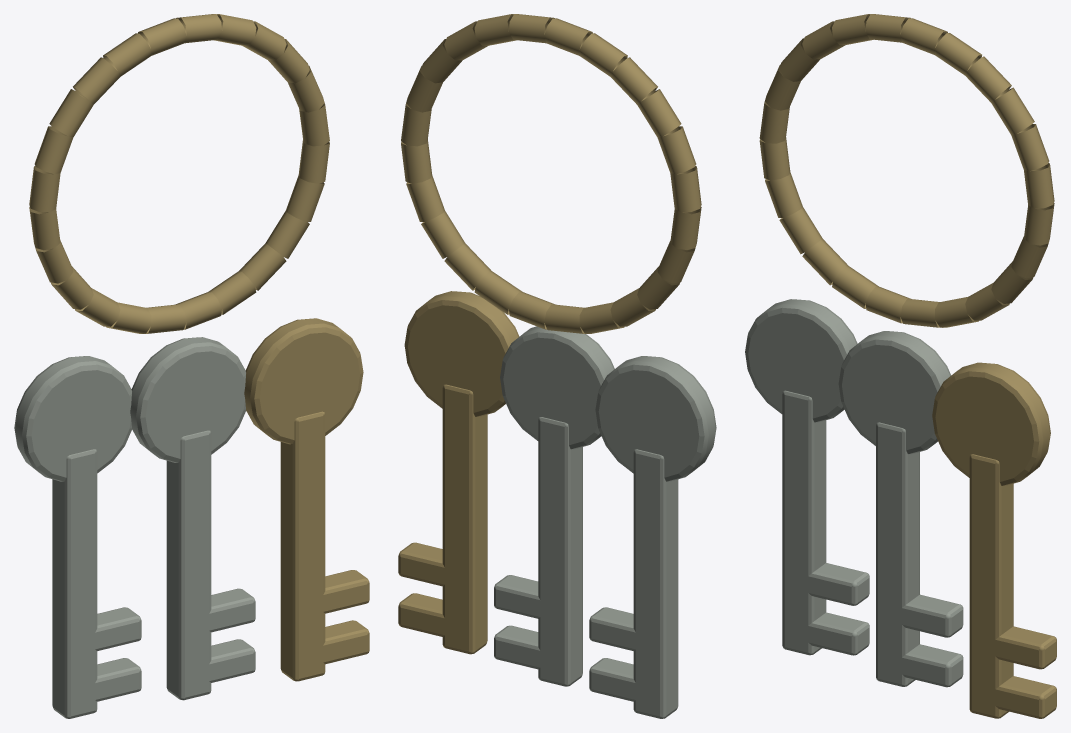
File: boiler_keys.glb
3 views of the same model, side by side, from view 1: azimuth 30°, elevation 25°; view 2: azimuth 150°, elevation 25°; view 3: azimuth 330°, elevation 25° (orthographic).
Parts seen in each view (by area): view 1: Rear_Steel, Rear_Brass; view 2: Rear_Steel, Rear_Brass; view 3: Rear_Brass, Rear_Steel.
Part boxes in pixels (bbox=[...]): Rear_Steel: bbox=[14, 337, 255, 718]; Rear_Brass: bbox=[29, 14, 369, 681]; Rear_Steel: bbox=[494, 326, 716, 718]; Rear_Brass: bbox=[398, 14, 701, 654]; Rear_Brass: bbox=[759, 14, 1056, 718]; Rear_Steel: bbox=[745, 299, 963, 687].
Bounding box in the file's own units: 0.081 × 0.1585 × 0.015.
